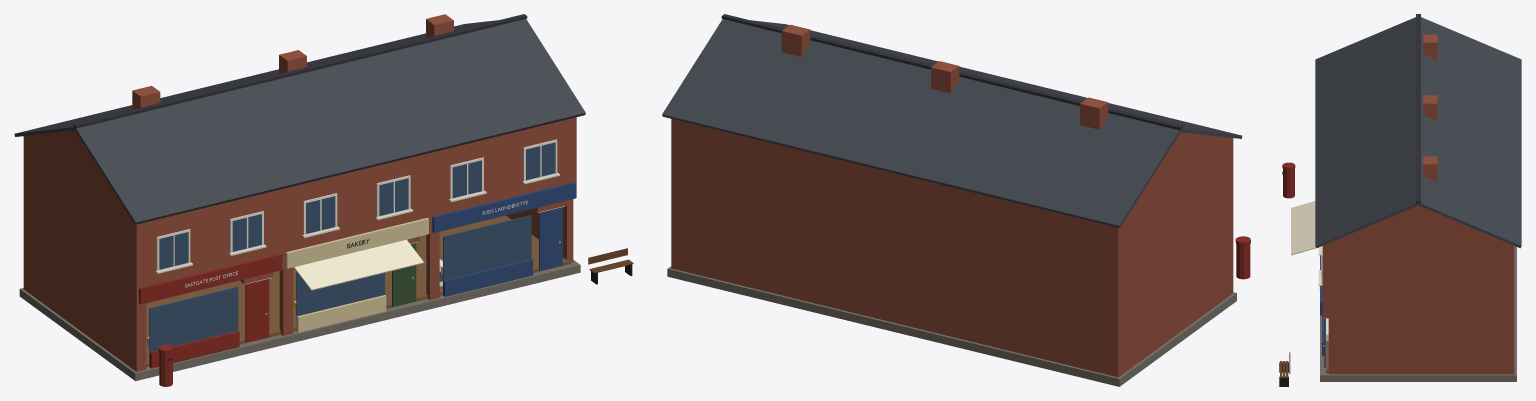
File: village.parade.glb
3 views of the same model, side by side, from view 1: azimuth 30°, elevation 25°; view 2: azimuth 150°, elevation 25°; view 3: azimuth 270°, elevation 25° (orthographic). The views are drawn at different scales.
Parts seen in each view (by area): view 1: roof-f, upper-front, side-1, plinth, window2, floor, window0, awning, roof-ridge, fascia2, fascia0, fascia1 (+21 smaller); view 2: back, roof-b, side-1, plinth, roof-f, roof-gable-1, roof-ridge, chimney6.0, chimney-6.0, chimney0, postbox; view 3: side1, roof-f, roof-b, roof-gable1, plinth, awning, roof-ridge, back, upper-front, chimney-6.0, chimney0, chimney6.0 (+1 smaller).
Boxes of the visible parts, left/top/right/bottom form: roof-f: left=74, top=19, right=585, bottom=224; upper-front: left=133, top=117, right=576, bottom=305; side-1: left=27, top=138, right=132, bottom=368; plinth: left=19, top=260, right=580, bottom=381; window2: left=443, top=215, right=531, bottom=282; floor: left=146, top=215, right=570, bottom=367; window0: left=149, top=286, right=238, bottom=354; awning: left=294, top=239, right=423, bottom=290; roof-ridge: left=73, top=14, right=527, bottom=128; fascia2: left=432, top=182, right=575, bottom=232; fascia0: left=139, top=253, right=282, bottom=304; fascia1: left=285, top=218, right=428, bottom=268; back: left=671, top=119, right=1121, bottom=377; roof-b: left=662, top=19, right=1180, bottom=227; side-1: left=1122, top=140, right=1229, bottom=374; plinth: left=667, top=266, right=1236, bottom=386; roof-f: left=751, top=20, right=1242, bottom=138; roof-gable-1: left=1119, top=132, right=1231, bottom=228; roof-ridge: left=721, top=14, right=1182, bottom=130; chimney6.0: left=781, top=24, right=810, bottom=56; chimney-6.0: left=1080, top=97, right=1108, bottom=129; chimney0: left=931, top=61, right=959, bottom=93; postbox: left=1236, top=244, right=1250, bottom=279; side1: left=1328, top=244, right=1508, bottom=374; roof-f: left=1315, top=17, right=1419, bottom=248; roof-b: left=1418, top=17, right=1521, bottom=248; roof-gable1: left=1324, top=205, right=1512, bottom=250; plinth: left=1320, top=246, right=1516, bottom=381; awning: left=1291, top=201, right=1315, bottom=255; roof-ridge: left=1416, top=14, right=1420, bottom=203; back: left=1508, top=244, right=1514, bottom=374; upper-front: left=1322, top=244, right=1328, bottom=317; chimney-6.0: left=1423, top=34, right=1437, bottom=60; chimney0: left=1423, top=95, right=1437, bottom=121; chimney6.0: left=1423, top=156, right=1437, bottom=181.
Size of the model in its own units: 19.53 by 8.75 by 10.1.
